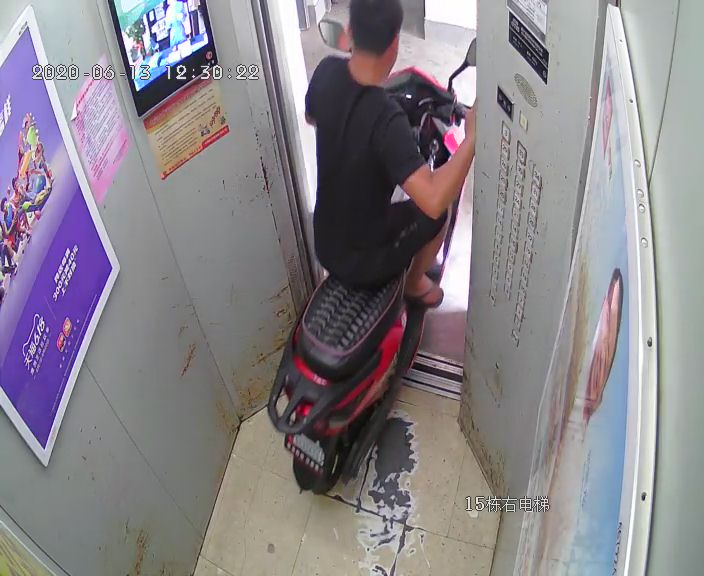Electric-bicycle: (267, 34, 479, 494)
